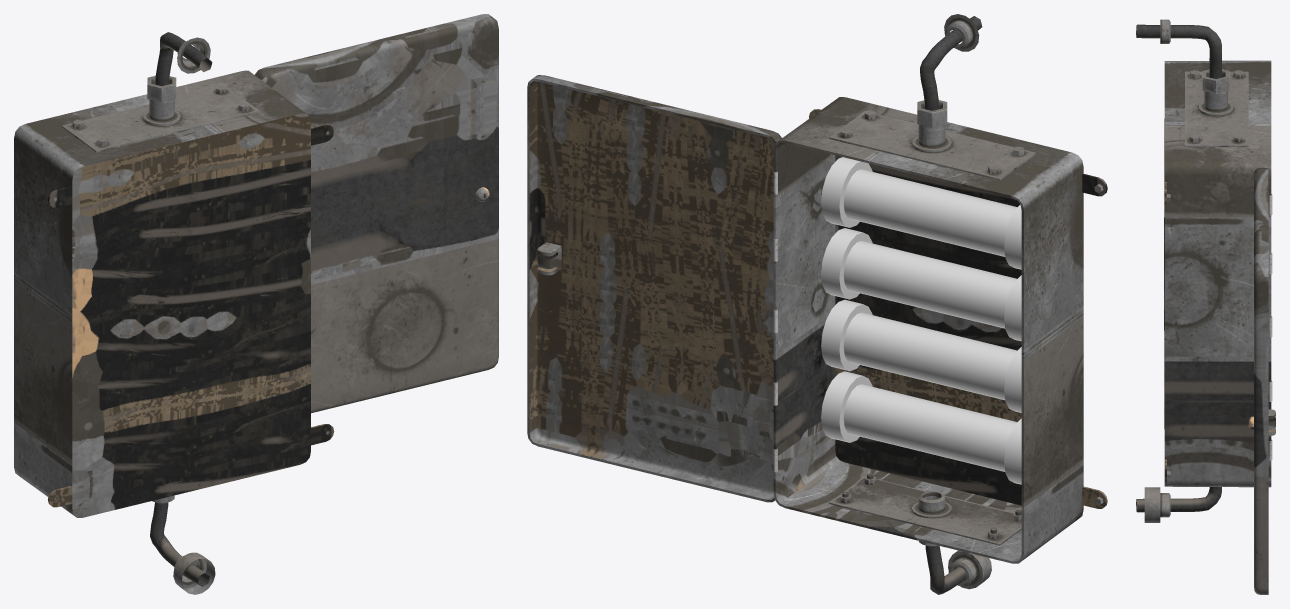
File: FuseBox.fbx
3 views of the same model, side by side, from view 1: azimuth 30°, elevation 25°; view 2: azimuth 150°, elevation 25°; view 3: azimuth 270°, elevation 25° (orthographic). The views are drawn at different scales.
Visible parts, largest first — view 1: FuseBox, FuseboxDoor; view 2: FuseboxDoor, FuseBox, Fuses, BrokenFuse; view 3: FuseBox, FuseboxDoor.
Boxes of the visible parts, bbox=[...] form: FuseBox: bbox=[14, 32, 334, 594]; FuseboxDoor: bbox=[255, 14, 498, 413]; FuseboxDoor: bbox=[527, 75, 781, 502]; FuseBox: bbox=[773, 14, 1107, 594]; Fuses: bbox=[821, 228, 1021, 484]; BrokenFuse: bbox=[821, 157, 1021, 269]; FuseBox: bbox=[1136, 19, 1272, 522]; FuseboxDoor: bbox=[1248, 168, 1275, 594].
Size of the model in its own units: 1.01 by 1.05 by 0.2634.
3 materials, 2 textured.
